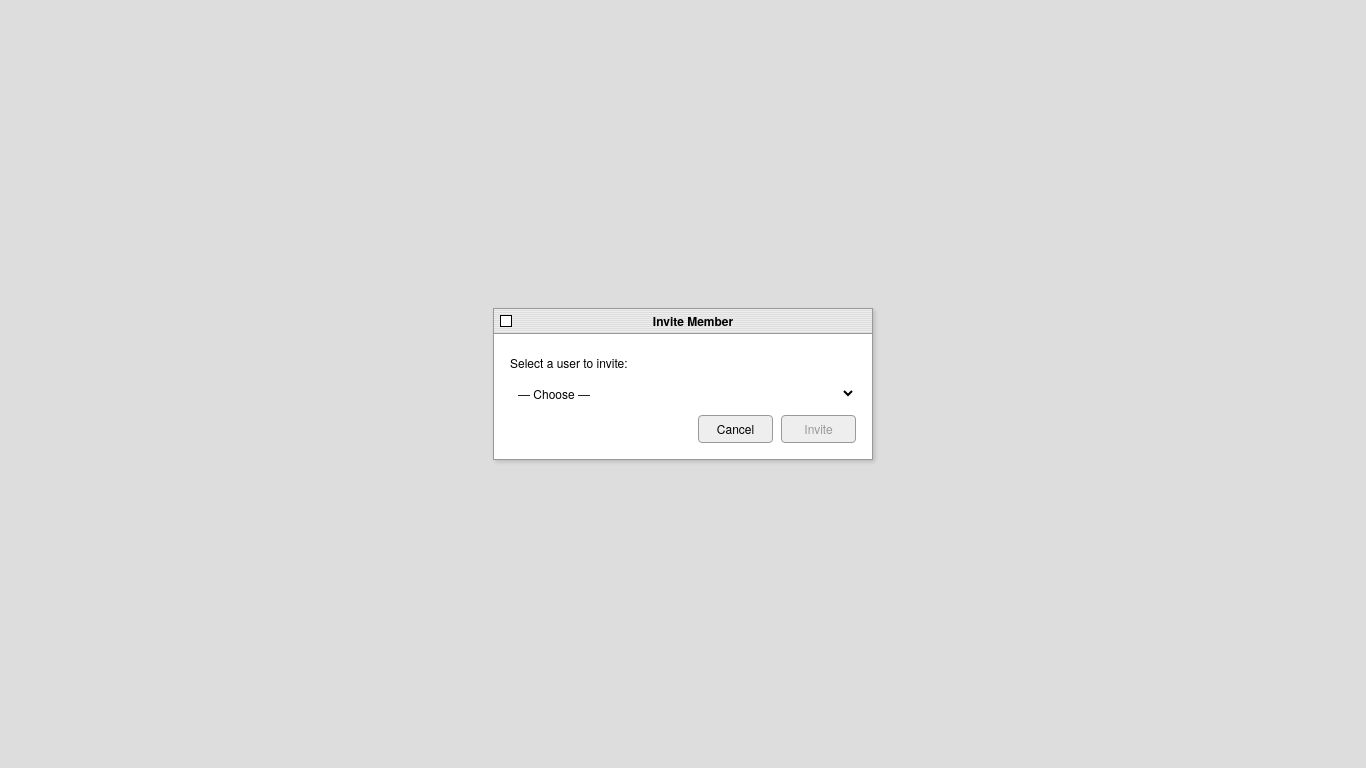
Test: InviteMemberModal › shows the API error and stays open when invite fails
The width and height of the screenshot is (1366, 768).
Select "Bob" in the dropdown at [683, 394], box x1=510 y1=380 x2=856 y2=407
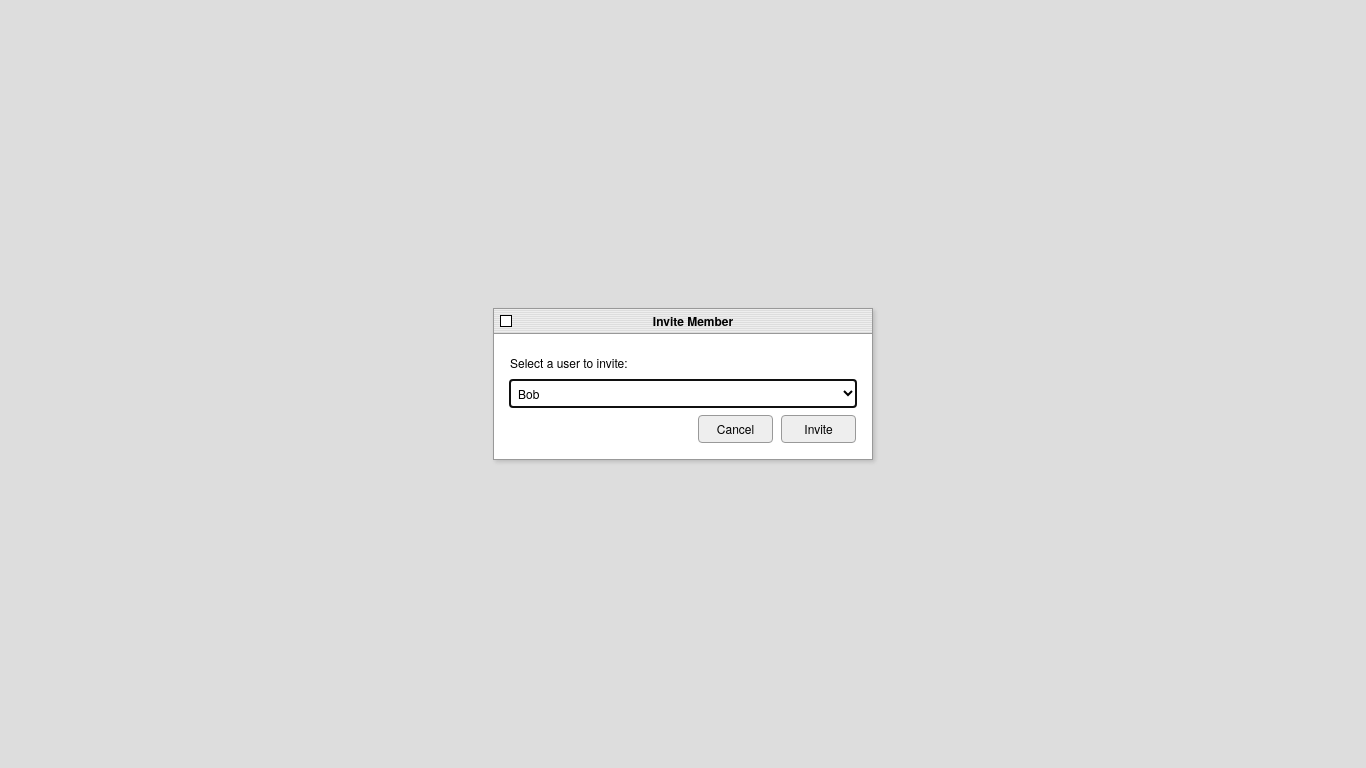
Click the button "Invite".
click(818, 429)  # box x1=781 y1=415 x2=856 y2=443
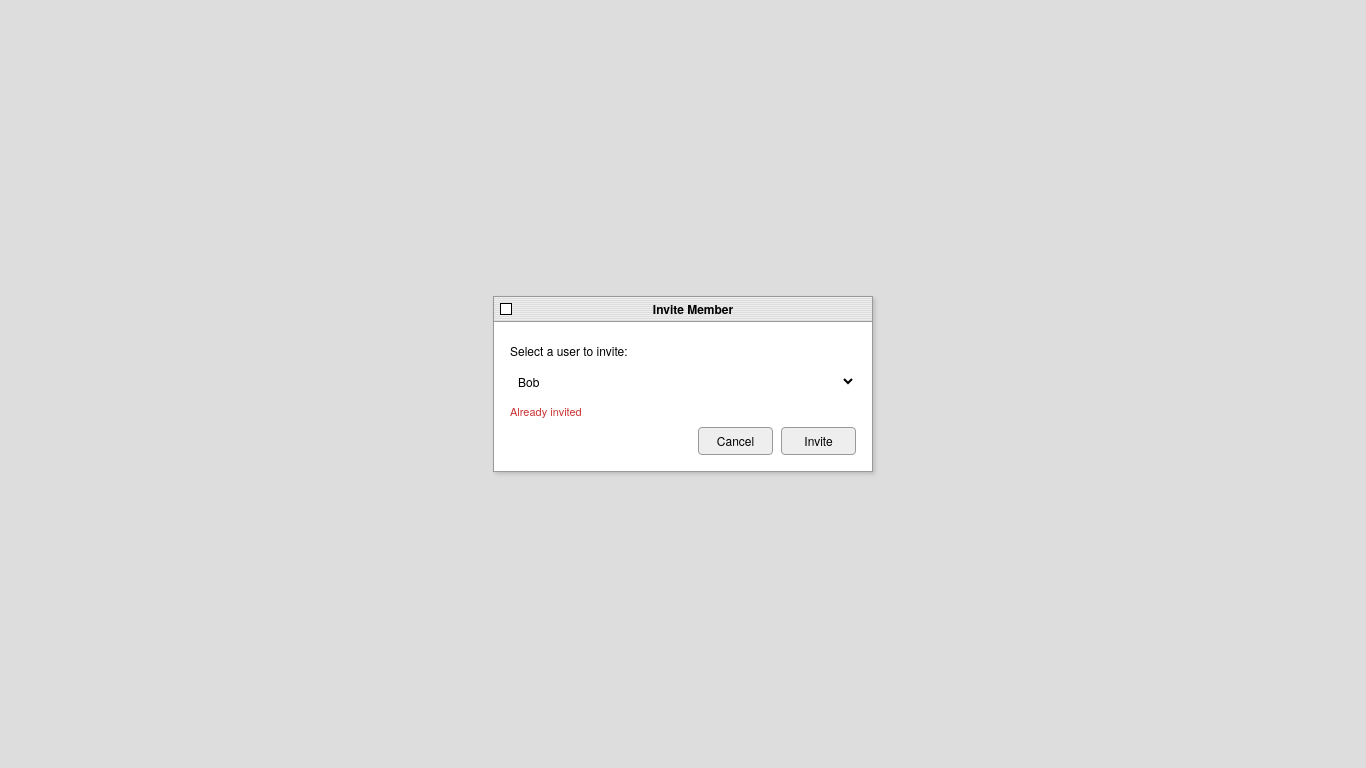
Check: the message reads "Already invited", box x1=510 y1=403 x2=582 y2=419
